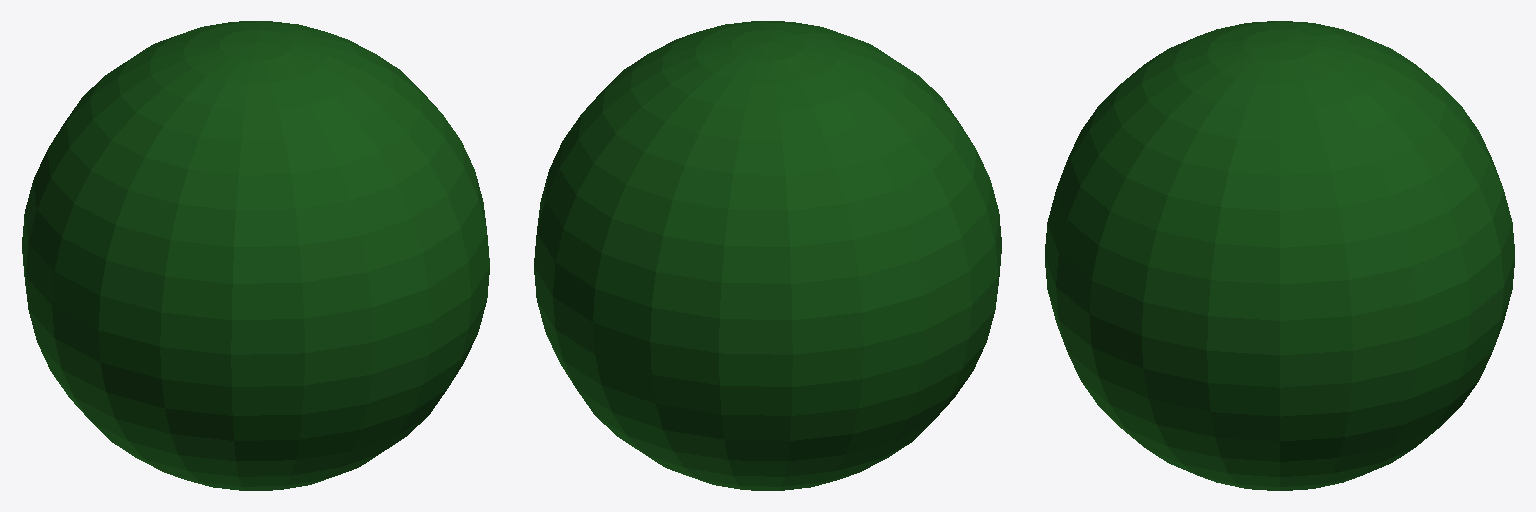
File: ball2.obj
3 views of the same model, side by side, from view 1: azimuth 30°, elevation 25°; view 2: azimuth 150°, elevation 25°; view 3: azimuth 270°, elevation 25° (orthographic).
Parts seen in each view (by area): view 1: pSphere1; view 2: pSphere1; view 3: pSphere1.
Boxes of the visible parts, x1,y1,x2,y2 form: pSphere1: [22, 21, 489, 490]; pSphere1: [534, 21, 1001, 490]; pSphere1: [1045, 21, 1514, 490].
Size of the model in its own units: 2.51 by 2.51 by 2.51.